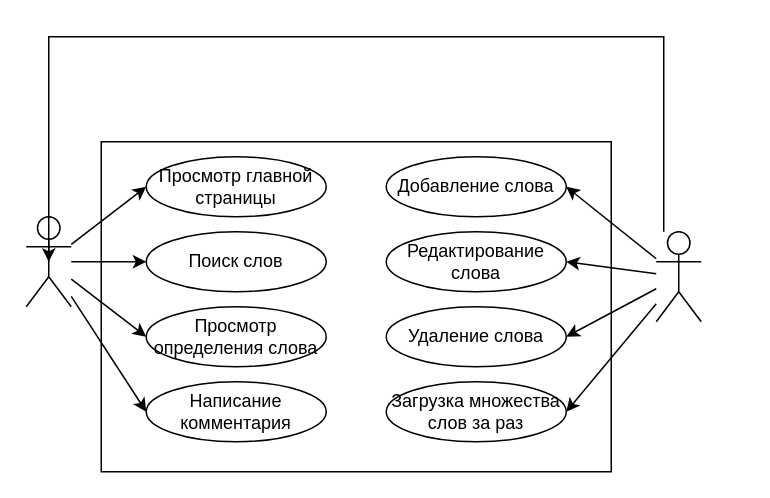
Image size: 770x498. Some labels were removed from this diagram. The shapes that lost their labels are listed below. From the top down, each one's centre as x and y in pixels, then its label:
At (x=48, y=261): "Гость".
At (x=678, y=276): "Администратор".
